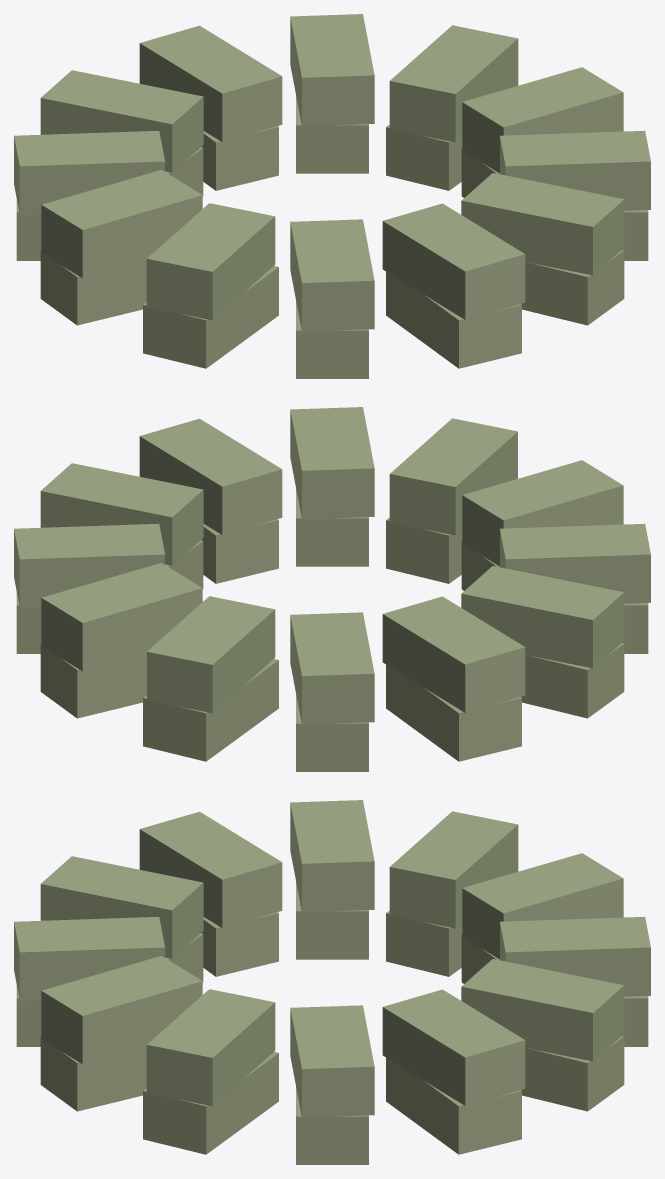
The model's file is mech-hangar-and-battle-frames-sandbag-ring-e4c93710__26985.glb.
3 renders of one model, top to bottom at view 1: azimuth 30°, elevation 25°; view 2: azimuth 150°, elevation 25°; view 3: azimuth 270°, elevation 25°, orthographic.
Parts seen in each view (by area): view 1: sandbag-ring; view 2: sandbag-ring; view 3: sandbag-ring.
Boxes of the visible parts, x1=… form: sandbag-ring: x1=14, y1=14, x2=650, y2=378; sandbag-ring: x1=14, y1=407, x2=650, y2=771; sandbag-ring: x1=14, y1=800, x2=650, y2=1164.
Size of the model in its own units: 2.62 by 0.4401 by 2.62.
